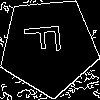F: (23, 21, 70, 56)
